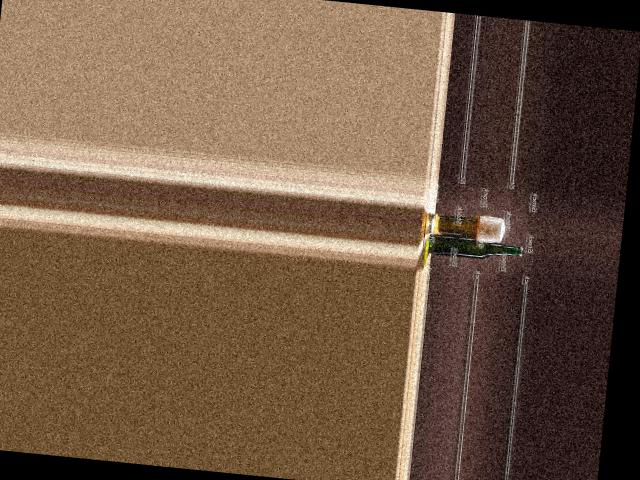beer: (427, 232, 524, 263)
